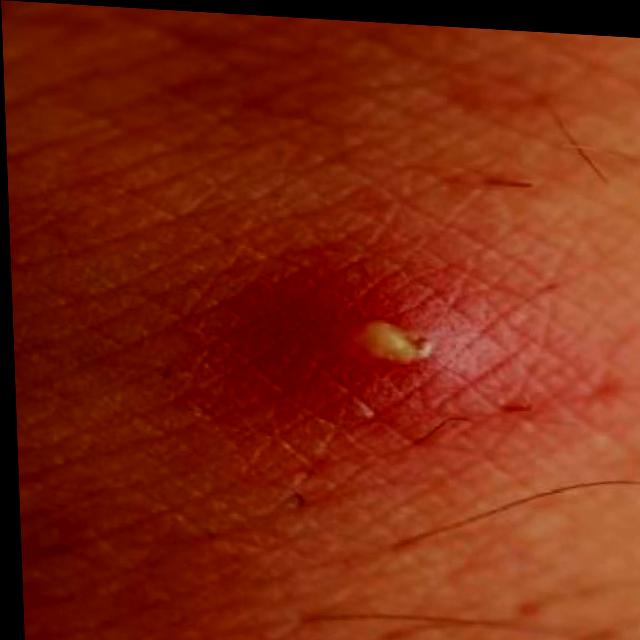blackheads: (318, 298, 454, 389)
